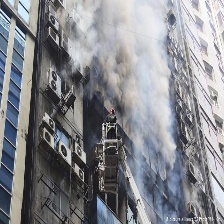smoke: (75, 1, 177, 196)
